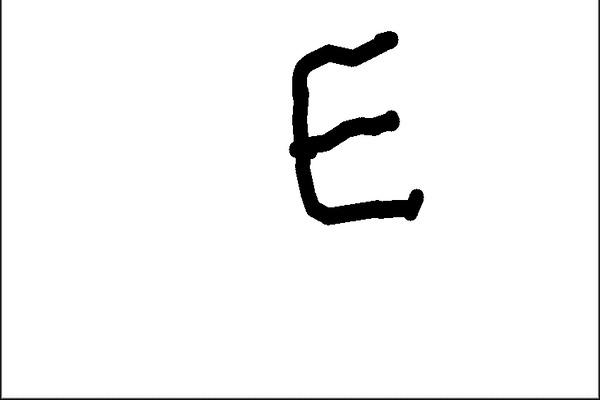E: (284, 26, 450, 230)
